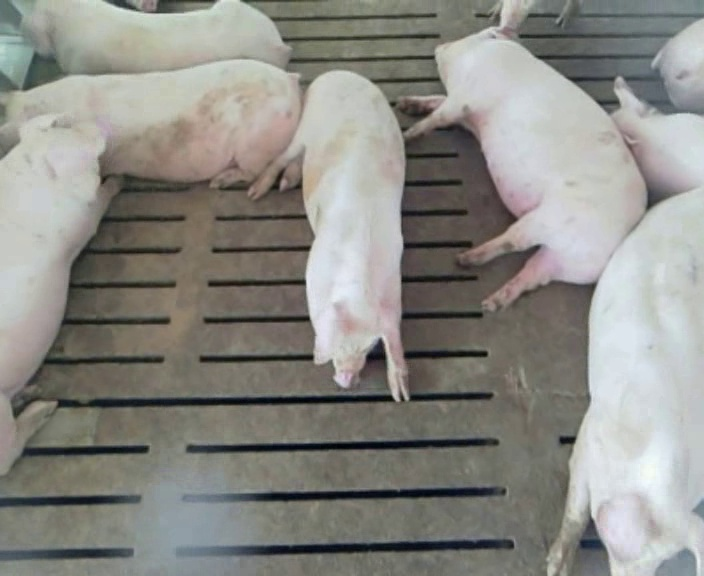pig: (400, 28, 646, 310), (548, 187, 703, 574), (248, 71, 408, 399), (0, 115, 118, 474), (0, 59, 300, 186), (22, 2, 290, 73), (612, 76, 703, 202), (651, 18, 703, 112)
